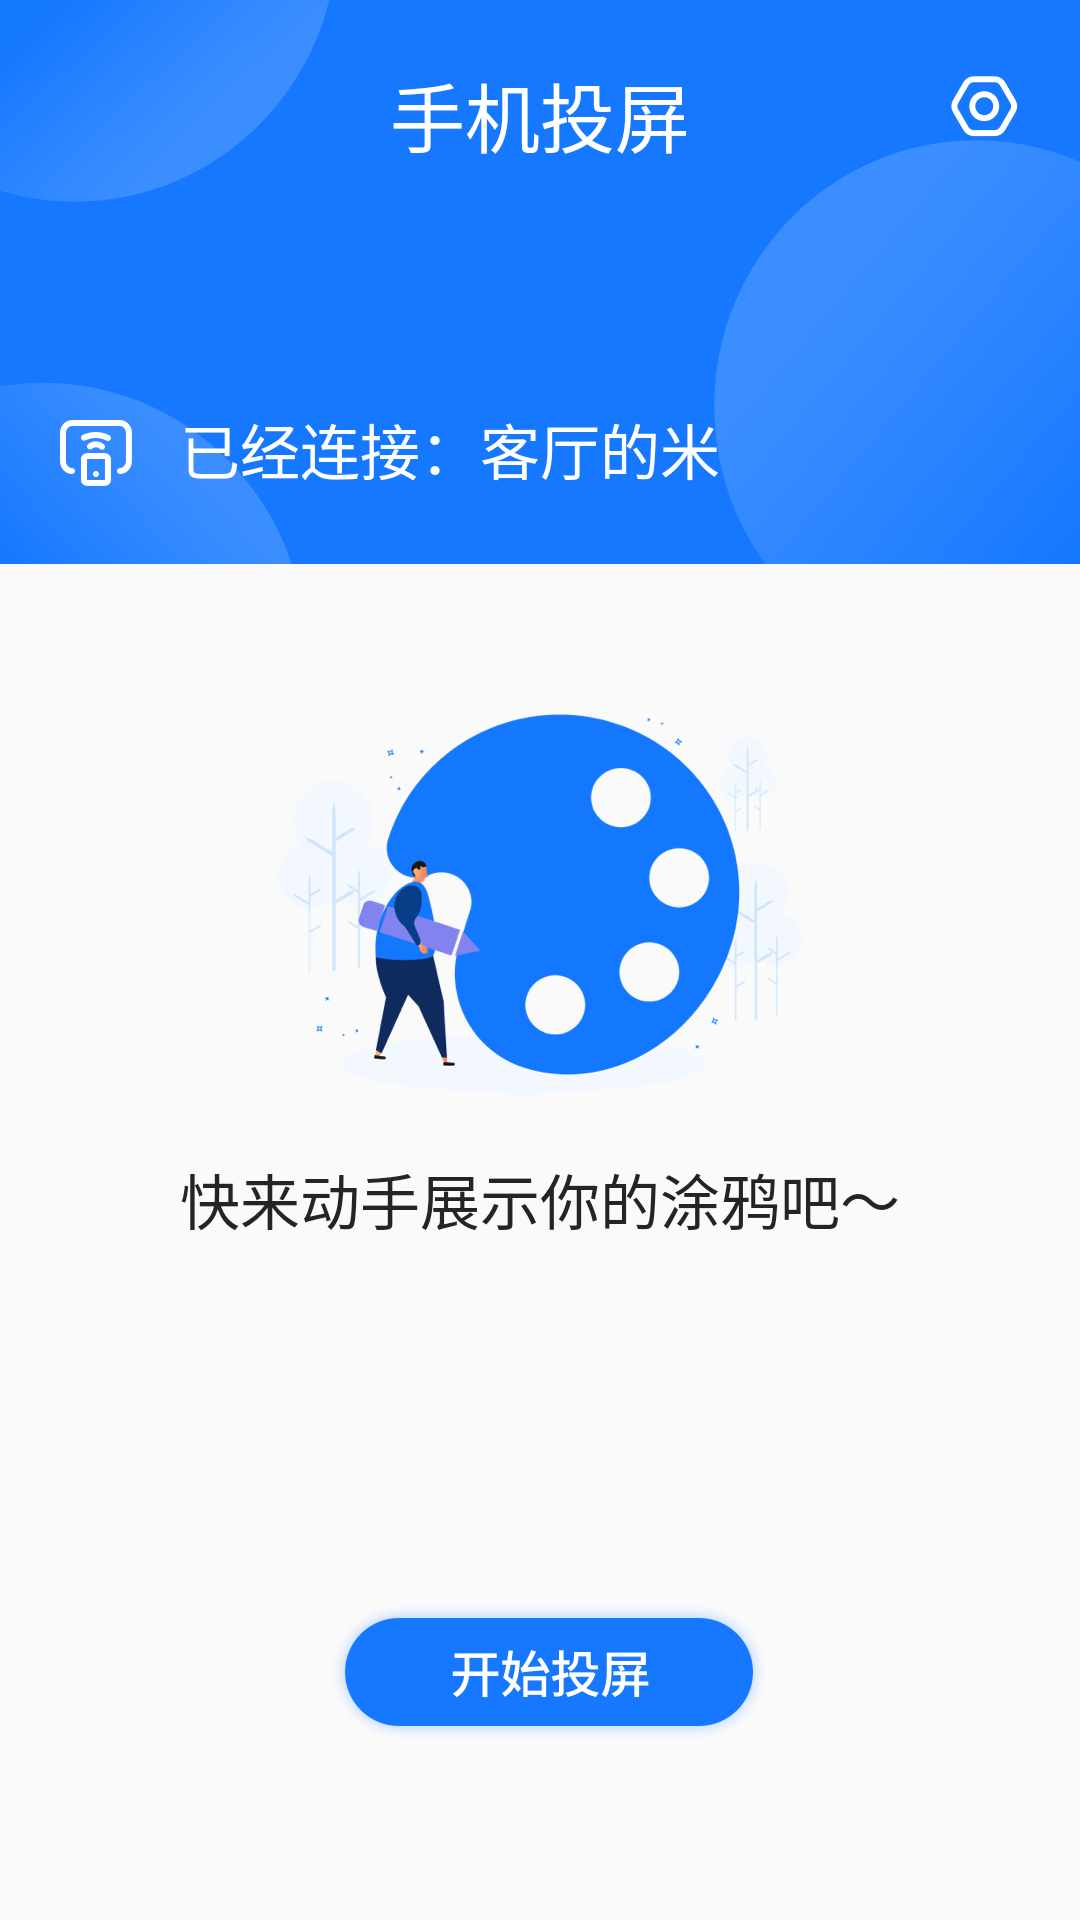

Icon bounding boxes for this 1080x1920 phone screenshot, format [x1=x1, y1=y1, x2=x2, y2=y2]:
setting: [x1=951, y1=76, x2=1018, y2=137]
